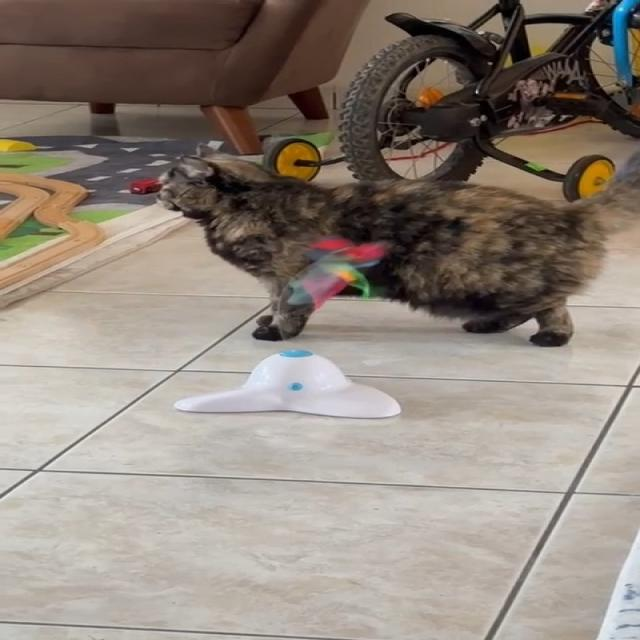authorized: (153, 143, 639, 347)
